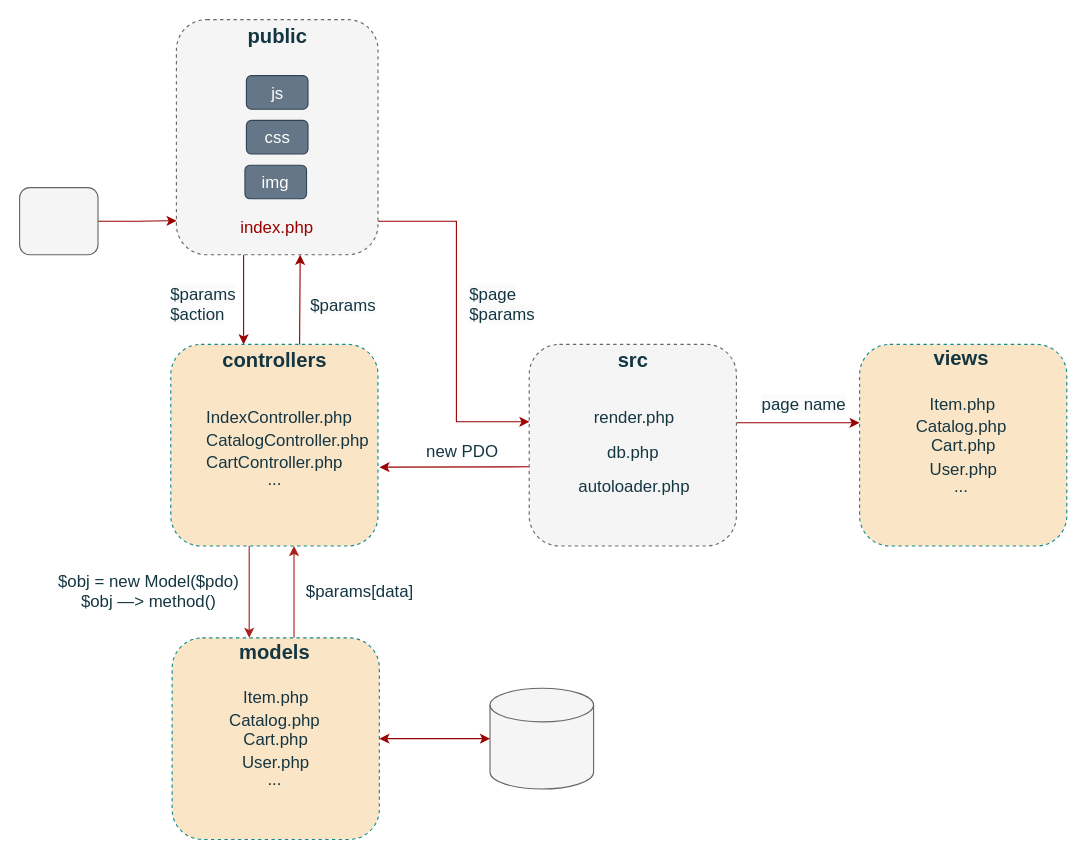
The diagram is 1086 pixels wide and 859 high, and some of its shapes have lost their labels. Here are the shapes that lost their labels. From the top down, the box of each, then its label:
(18, 186, 98, 255): config
(489, 687, 594, 789): database
